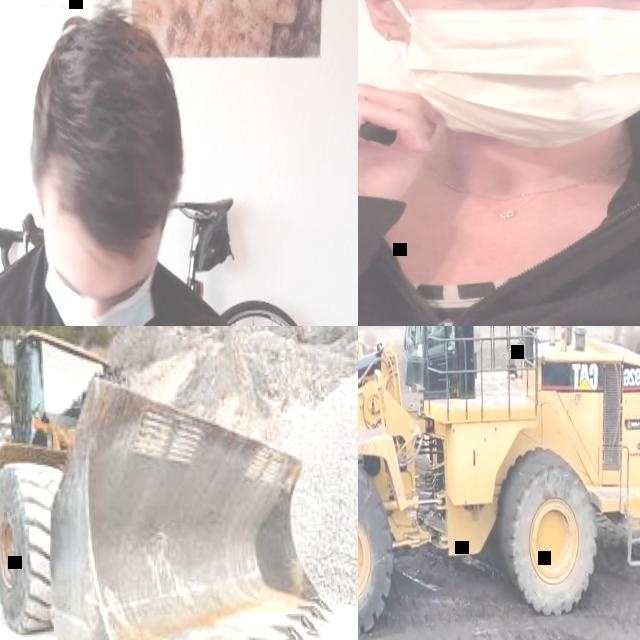Mask: (395, 0, 640, 141), (42, 259, 161, 326)
NO-Hardhat: (23, 0, 194, 248)
NO-Safety Vest: (358, 129, 640, 326), (0, 248, 233, 326), (430, 326, 444, 334)
Person: (358, 0, 640, 326), (0, 0, 277, 326), (425, 326, 444, 340)
machinery: (0, 326, 331, 640), (358, 326, 640, 640)
